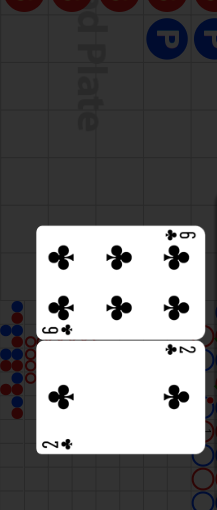2C: (41, 437, 75, 451)
6C: (162, 228, 197, 243)
